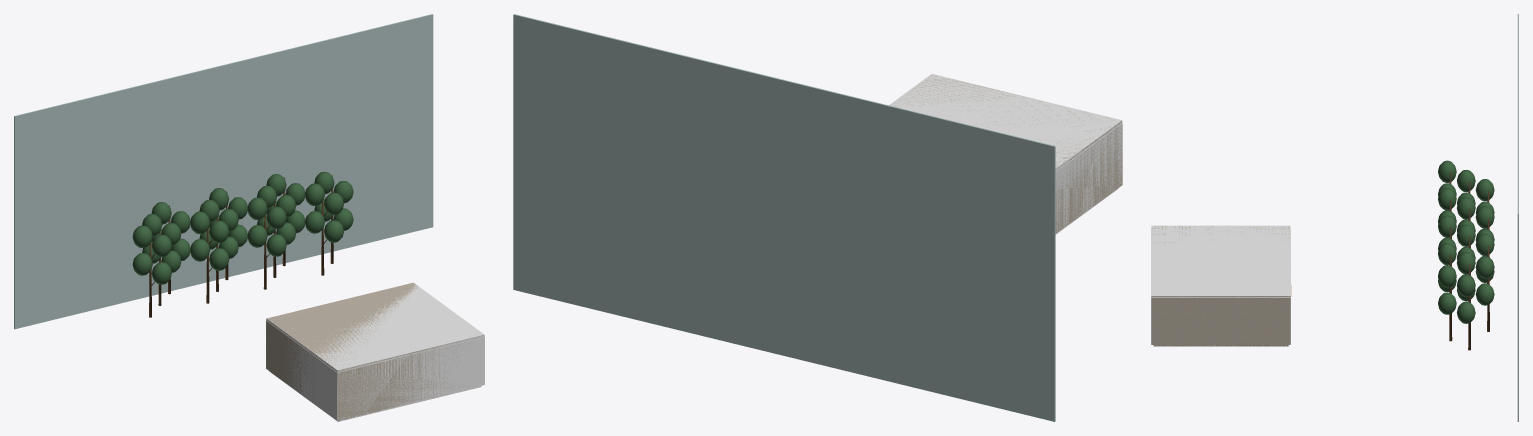
Rendered from home-realistic-corner.glb.
3 views of the same model, side by side, from view 1: azimuth 30°, elevation 25°; view 2: azimuth 150°, elevation 25°; view 3: azimuth 270°, elevation 25° (orthographic). The views are drawn at different scales.
Parts seen in each view (by area): view 1: VIS_exterior, COL_ceiling, VIS_walls, COL_south, VIS_ceiling, COL_side-6; view 2: VIS_exterior, COL_ceiling, COL_side-6, VIS_walls, VIS_ceiling; view 3: COL_ceiling, VIS_exterior, VIS_walls, VIS_ceiling.
Boxes of the visible parts, box(x1,y1,x2,y2) form: VIS_exterior: box(14, 14, 433, 329); COL_ceiling: box(266, 282, 484, 372); VIS_walls: box(266, 321, 476, 420); COL_south: box(337, 337, 484, 420); VIS_ceiling: box(267, 282, 483, 371); COL_side-6: box(266, 320, 337, 420); VIS_exterior: box(513, 14, 1055, 421); COL_ceiling: box(889, 74, 1122, 170); COL_side-6: box(1055, 123, 1122, 233); VIS_walls: box(1055, 125, 1122, 233); VIS_ceiling: box(889, 75, 1121, 170); COL_ceiling: box(1151, 225, 1290, 297); VIS_exterior: box(1438, 14, 1518, 421); VIS_walls: box(1151, 298, 1290, 344); VIS_ceiling: box(1152, 225, 1290, 297).
Bounding box in the file's own units: 35 × 17 × 27.23.
16 materials, 5 textured.
